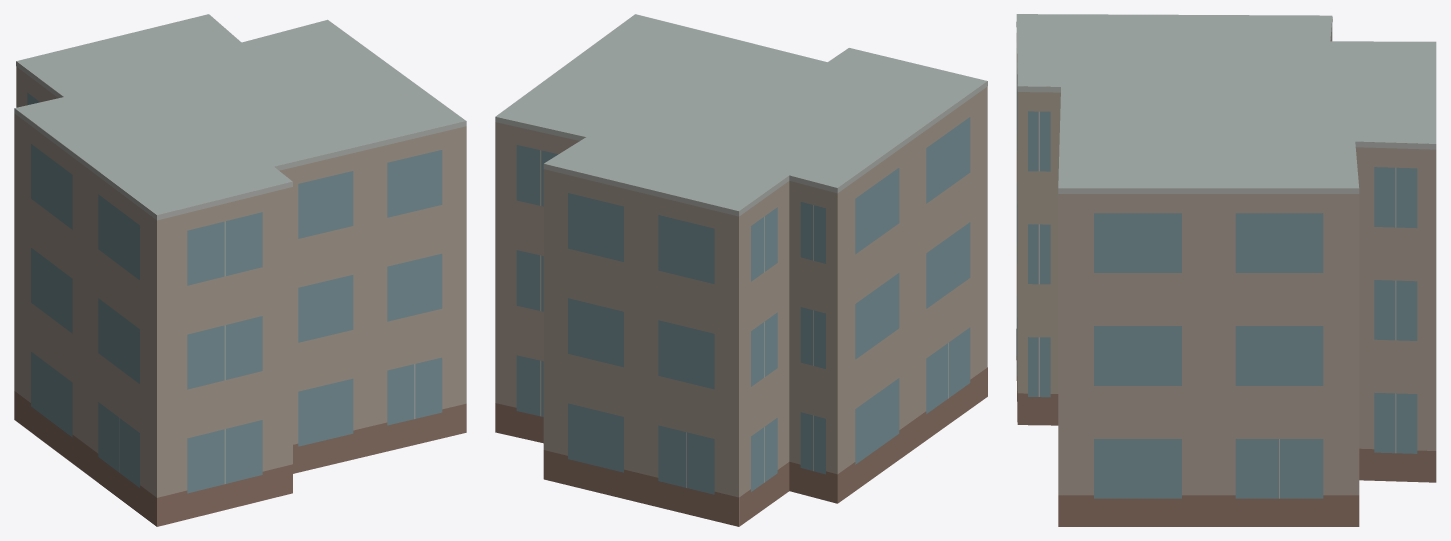
The model's file is survey-upis-32823798.glb.
3 renders of one model, left to right at view 1: azimuth 30°, elevation 25°; view 2: azimuth 150°, elevation 25°; view 3: azimuth 270°, elevation 25°, orthographic. The views are drawn at different scales.
Parts seen in each view (by area): view 1: survey-upis-32823798.tmp; view 2: survey-upis-32823798.tmp; view 3: survey-upis-32823798.tmp.
Boxes of the visible parts, x1,y1,x2,y2 form: survey-upis-32823798.tmp: (14,14,466,526); survey-upis-32823798.tmp: (495,14,987,526); survey-upis-32823798.tmp: (1016,14,1436,526).
Size of the model in its own units: 16.12 by 14.59 by 16.41.
